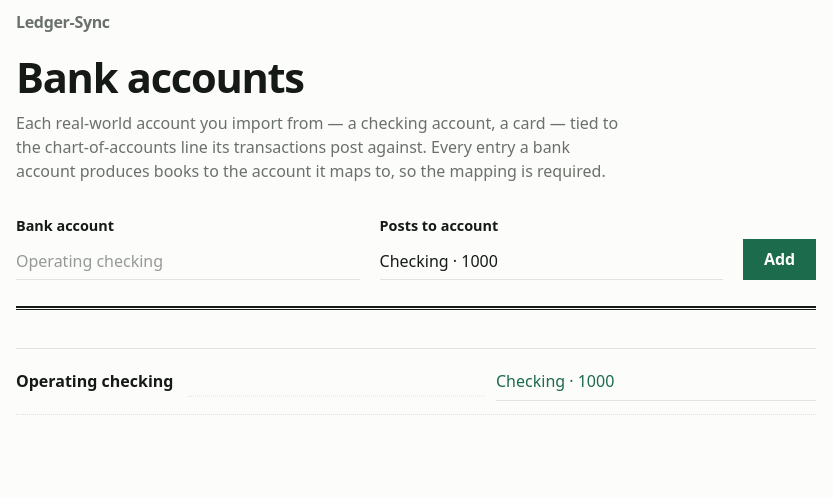
adding posts the name + mapped account and re-renders
Expected: the text "Operating checking" is shown, [16,369,176,393]
Step 1. Type "Company card" into the field labelled "Bank account" → (188, 261), box [16,242,360,280]
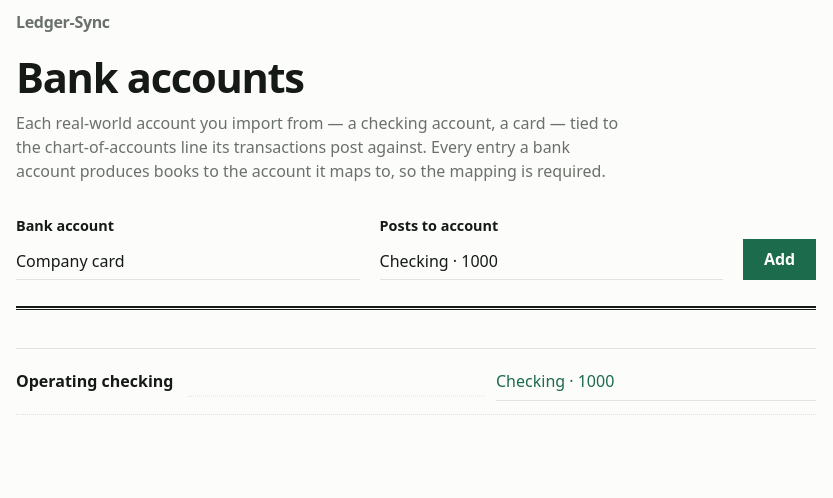
Step 2. Select "Business Card · 2000" in the dropdown labelled "Posts to account" → (551, 261), box [380,242,723,280]
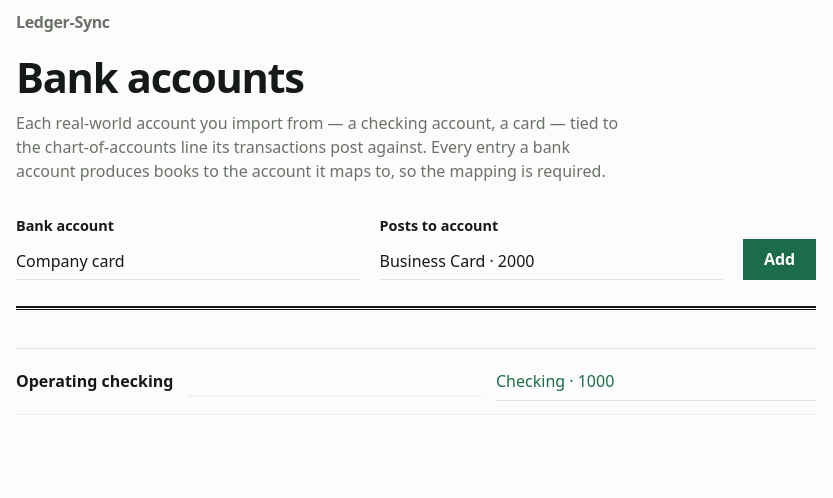
Step 3. Click the button "Add" → (780, 259), box [743,239,816,280]
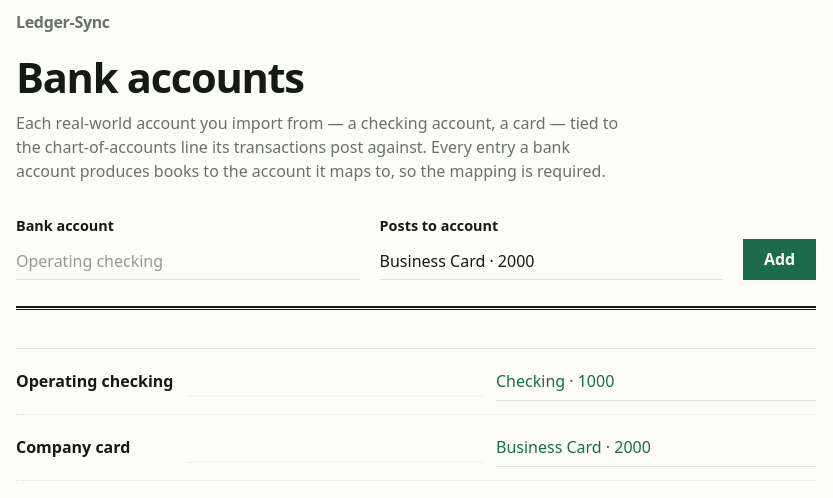
Expected: the text "Company card" is shown, [16,436,130,458]
